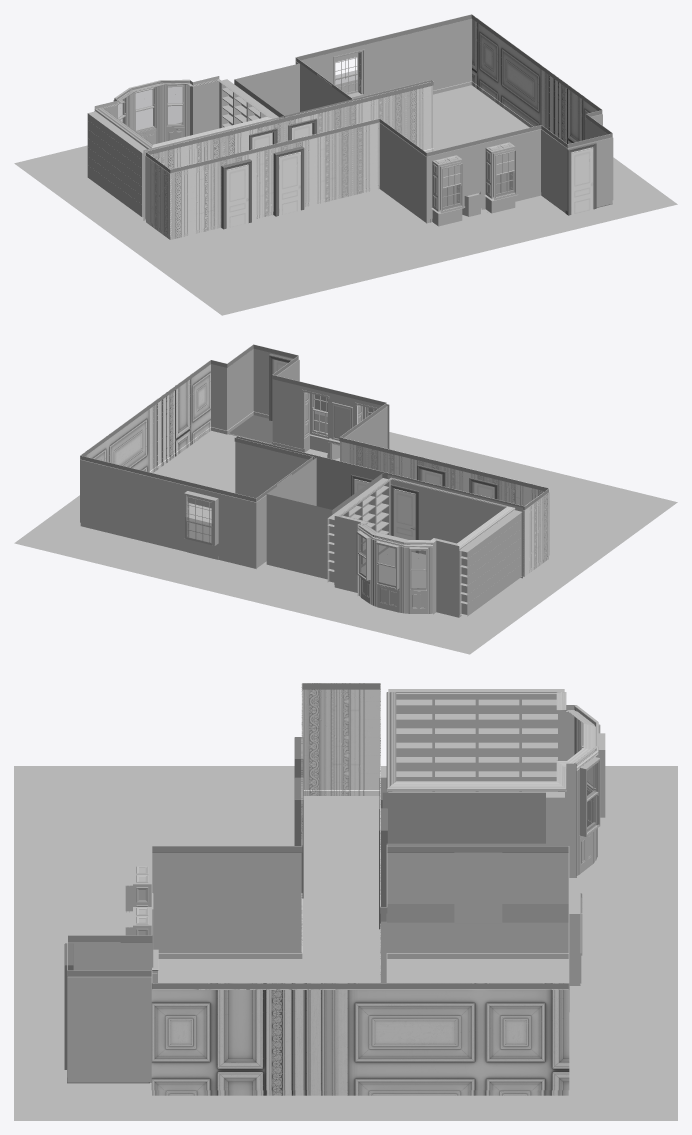
The model's file is wall.fbx.
3 renders of one model, top to bottom at view 1: azimuth 30°, elevation 25°; view 2: azimuth 150°, elevation 25°; view 3: azimuth 270°, elevation 25°, orthographic. The views are drawn at different scales.
Parts seen in each view (by area): view 1: wall, floor, door (×3), glass, door_frame (×3); view 2: wall, floor, glass, door, door_front_floor, door_frame; view 3: wall, floor, door_frame (×3).
Boxes of the visible parts, x1=… form: wall: x1=87, y1=14, x2=613, y2=239; floor: x1=14, y1=80, x2=677, y2=315; door (×3): x1=226, y1=147, x2=593, y2=228; glass: x1=118, y1=70, x2=514, y2=209; door_frame (×3): x1=221, y1=142, x2=596, y2=229; wall: x1=80, y1=344, x2=549, y2=617; floor: x1=14, y1=414, x2=677, y2=654; glass: x1=185, y1=394, x2=425, y2=589; door: x1=393, y1=488, x2=415, y2=552; door_front_floor: x1=228, y1=415, x2=272, y2=444; door_frame: x1=390, y1=484, x2=419, y2=553; wall: x1=67, y1=683, x2=605, y2=1095; floor: x1=14, y1=766, x2=677, y2=1120; door_frame (×3): x1=64, y1=777, x2=387, y2=1069.
Size of the model in its own units: 2185 by 353 by 1727.
